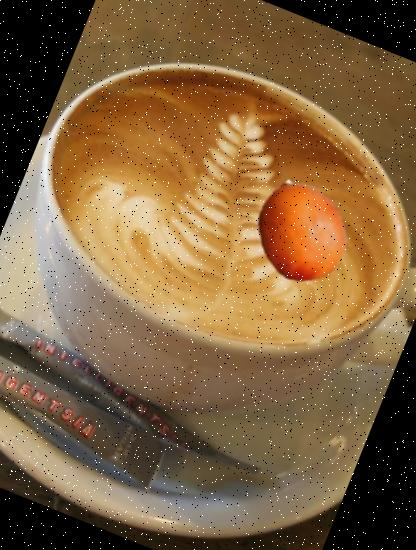Apricot: (235, 168, 366, 298)
